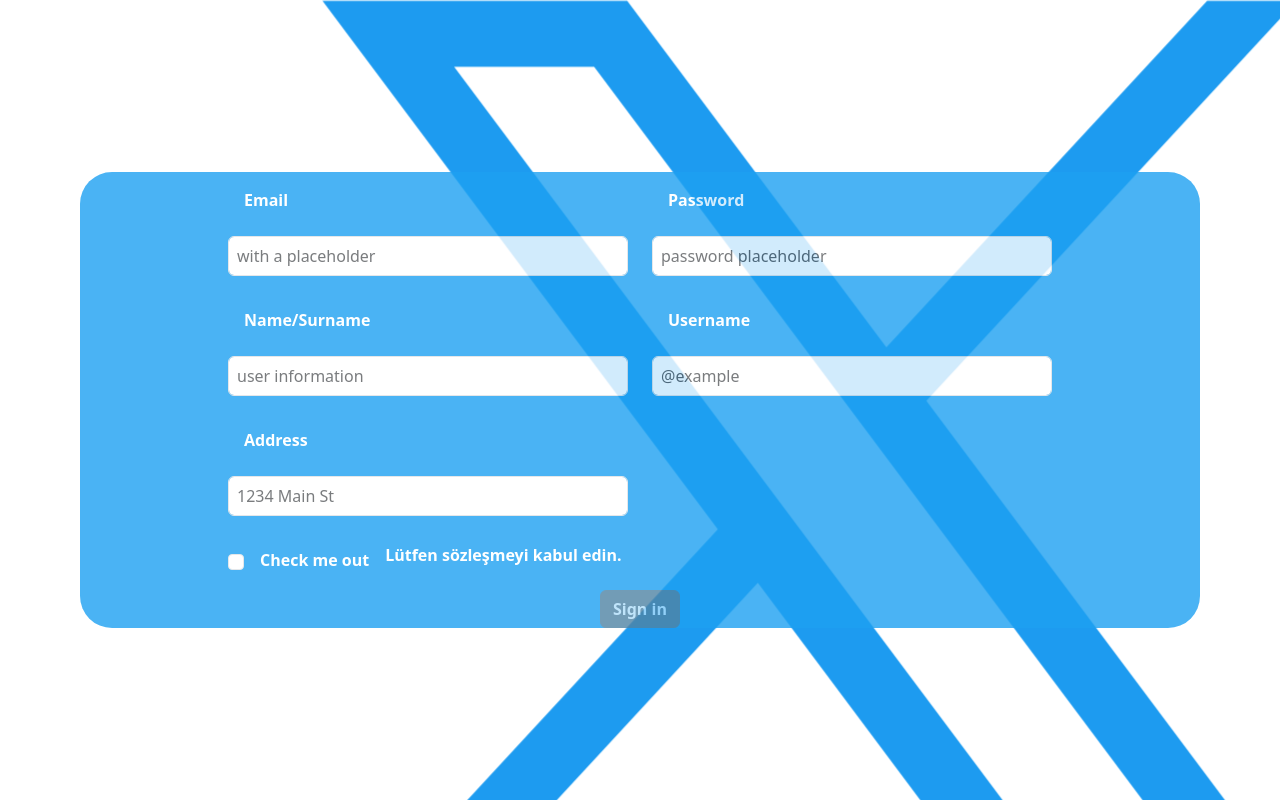
Kullanıcı kayıt sayfası validasyon kontrolleri › Ana Sayfa/Sidebar'da kullanıcı bilgisi var
Type "alicansadelergmail.com" into the field named "email" at (428, 256), box [228, 236, 628, 276]
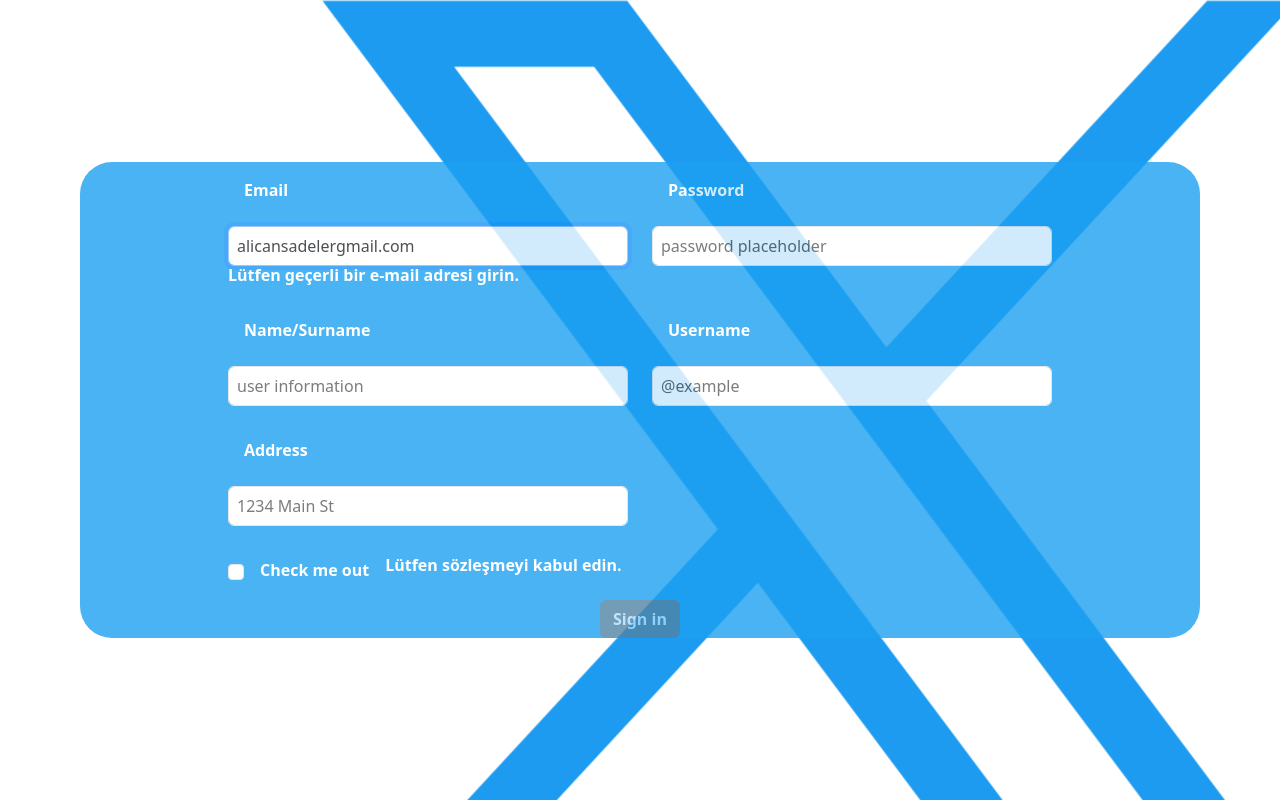
Type "asdadadsa" into the password field named "password" at (852, 246), box [652, 226, 1052, 266]
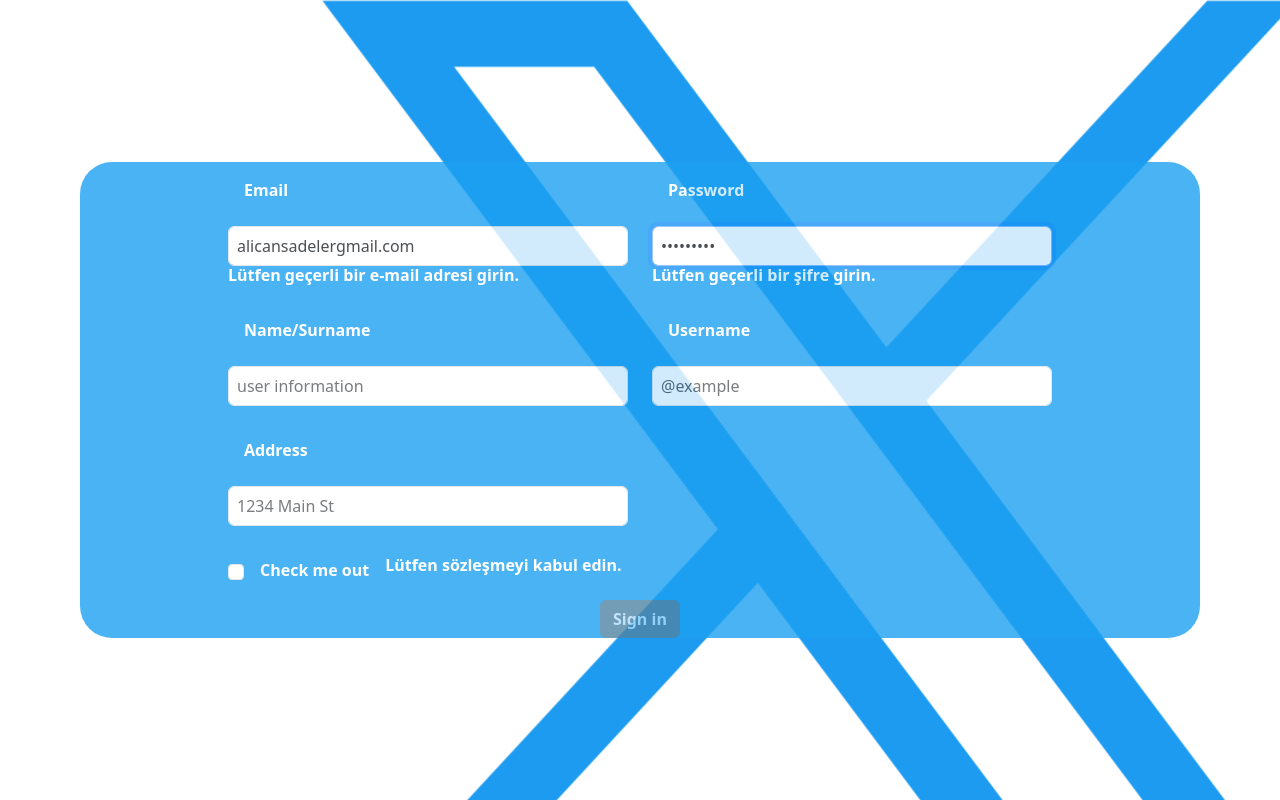
Type "as" into the field named "userName" at (852, 386), box [652, 366, 1052, 406]
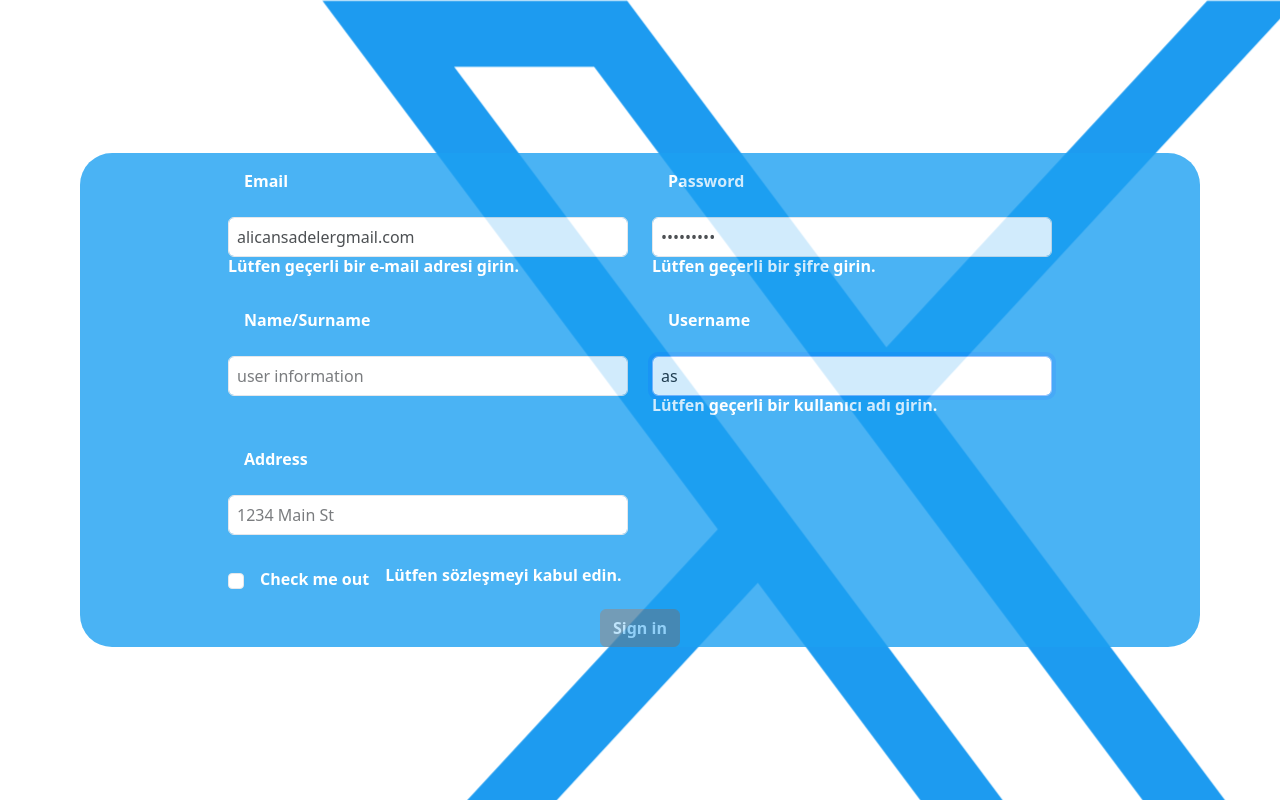
Expected: the heading "Lütfen geçerli bir e-mail adresi girin." is shown, [228, 255, 519, 277]
Expected: the heading "Lütfen geçerli bir şifre girin." is shown, [652, 255, 876, 277]
Expected: the heading "Lütfen geçerli bir kullanıcı adı girin." is shown, [652, 394, 937, 416]
